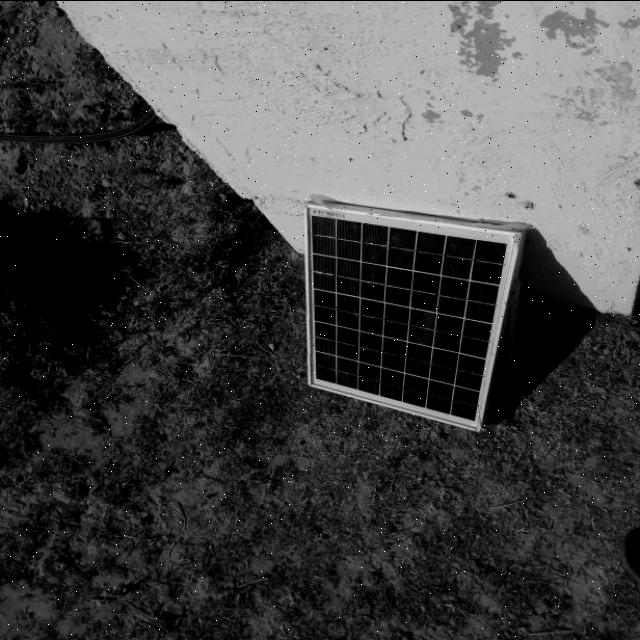Normal Solar Panel: (304, 202, 520, 430)
